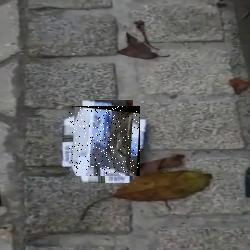restaffald: (69, 106, 140, 176)
